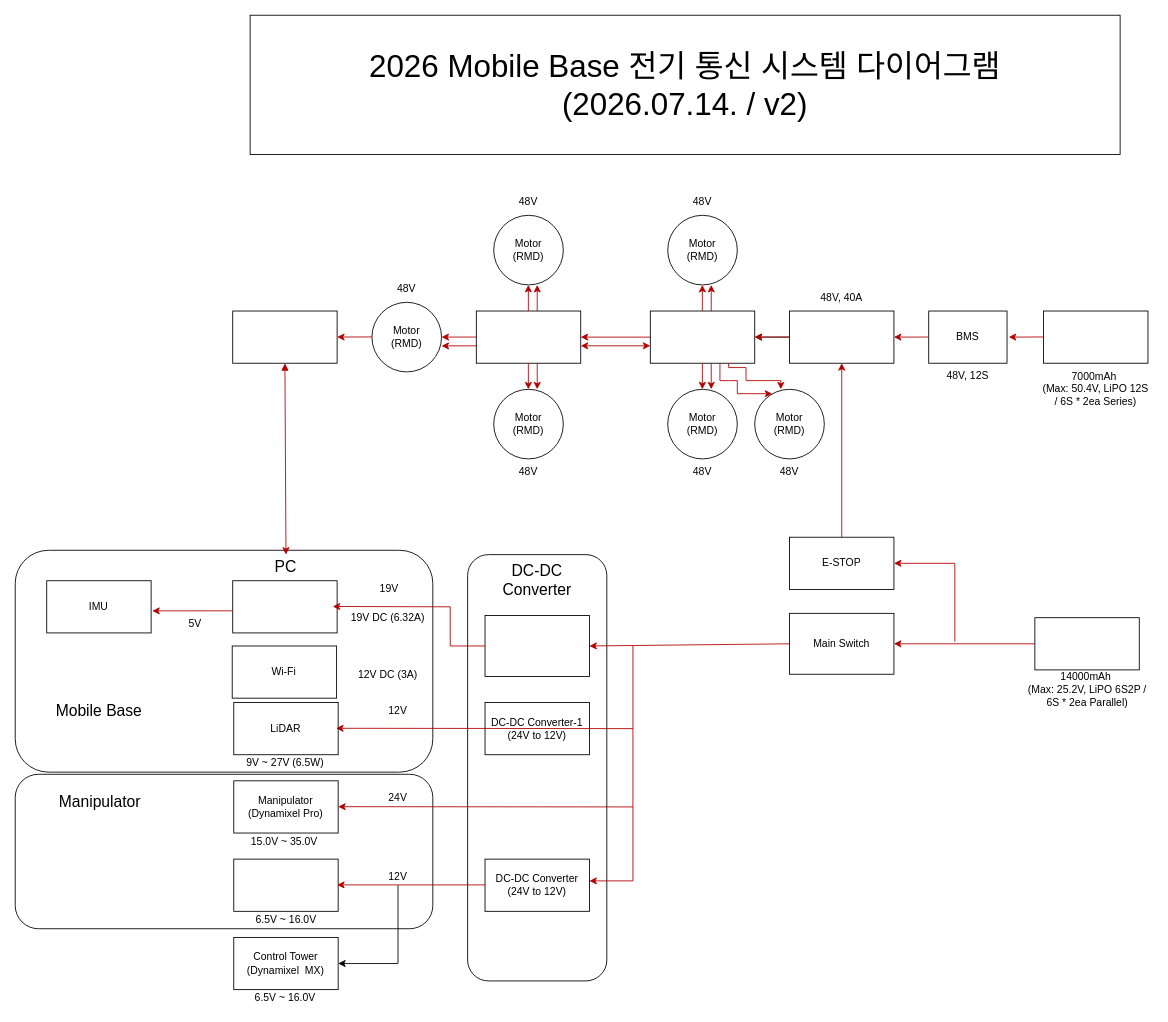
Image size: 1168x1022. Some labels were removed from this diagram. The box of each missing label's shape, as (x1, y1, x2, y2) in pixels:
DC-DC Converter (24V to 19V): (484, 615, 589, 676)
Front PDB: (475, 310, 581, 363)
Manipulator ( Dynamixel MX): (233, 858, 338, 911)
Mini PC (NUC): (232, 580, 337, 633)
Motor Battery ( Control): (1034, 617, 1139, 670)
Motor Battery ( RMD): (1043, 310, 1148, 363)
Power Relay: (789, 310, 894, 363)
Rear PDB: (649, 310, 755, 363)
USB-to-CAN: (232, 310, 337, 363)
